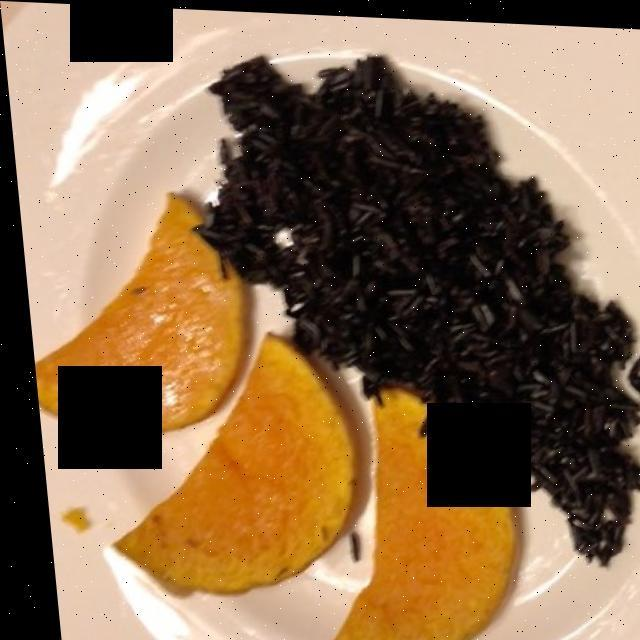pumpkin: (28, 213, 513, 640)
rice-wild: (177, 54, 640, 566)
